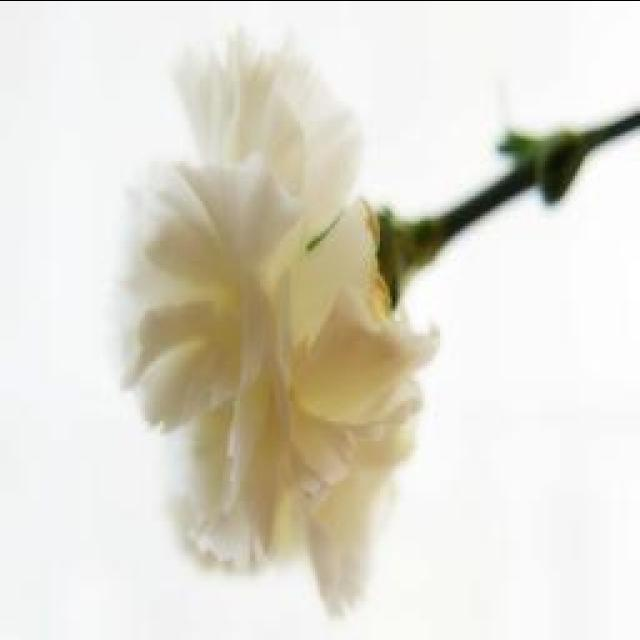carnation: (96, 0, 483, 634)
